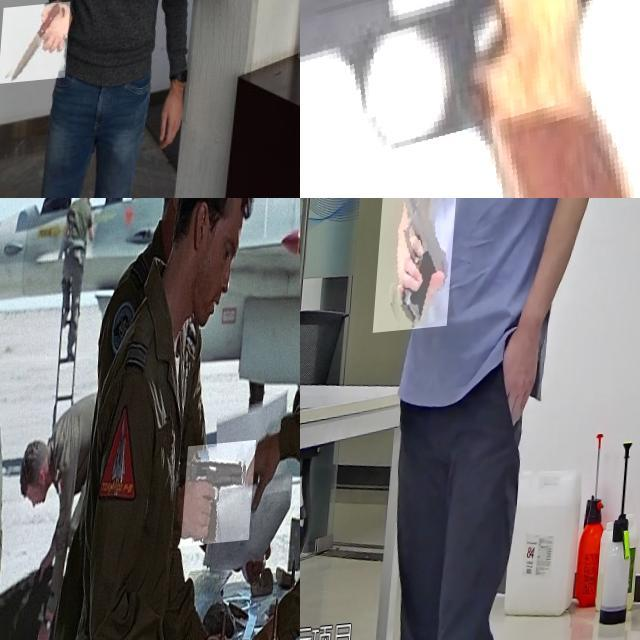-: (6, 7, 77, 88)
gun-knife-thesis - v11 Yolov5 augmented: (300, 0, 640, 198), (377, 198, 461, 335), (188, 446, 262, 552)
